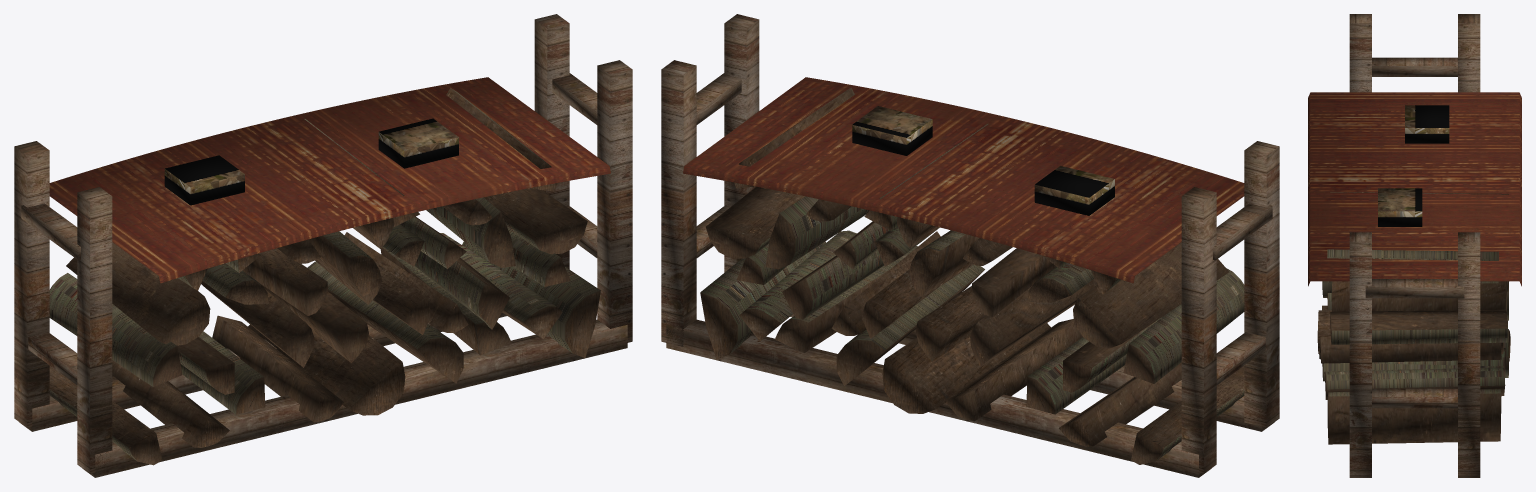
The model's file is firewood_cord_stack.glb.
The picture shows the model from 3 angles, left to right: view 1: azimuth 30°, elevation 25°; view 2: azimuth 150°, elevation 25°; view 3: azimuth 270°, elevation 25°; orthographic projection. The views are drawn at different scales.
Parts seen in each view (by area): view 1: FirewoodCordStack; view 2: FirewoodCordStack; view 3: FirewoodCordStack.
Part boxes in pixels (<box>): FirewoodCordStack: <box>14,14,632,477</box>; FirewoodCordStack: <box>661,14,1279,477</box>; FirewoodCordStack: <box>1308,14,1521,477</box>.
Bounding box in the file's own units: 2.21 × 1.07 × 0.87.
5 materials, 5 textured.
